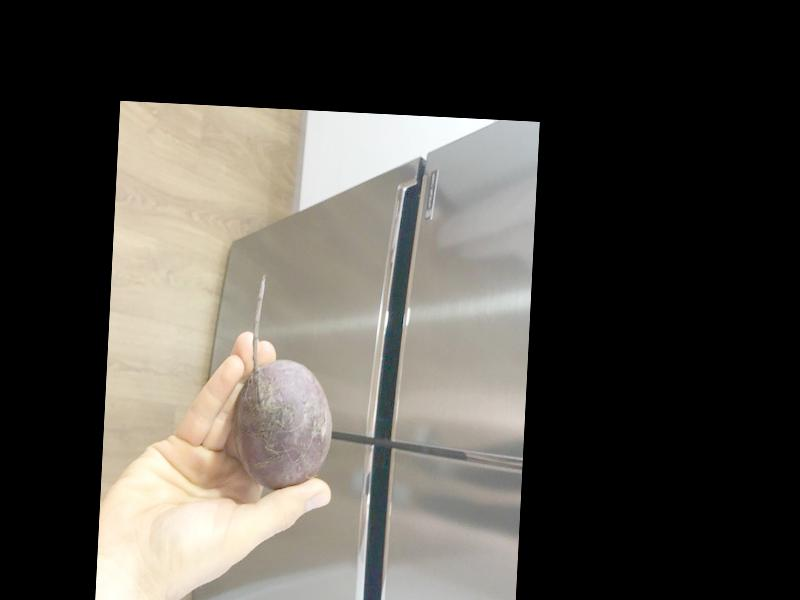Beet: (231, 273, 340, 491)
